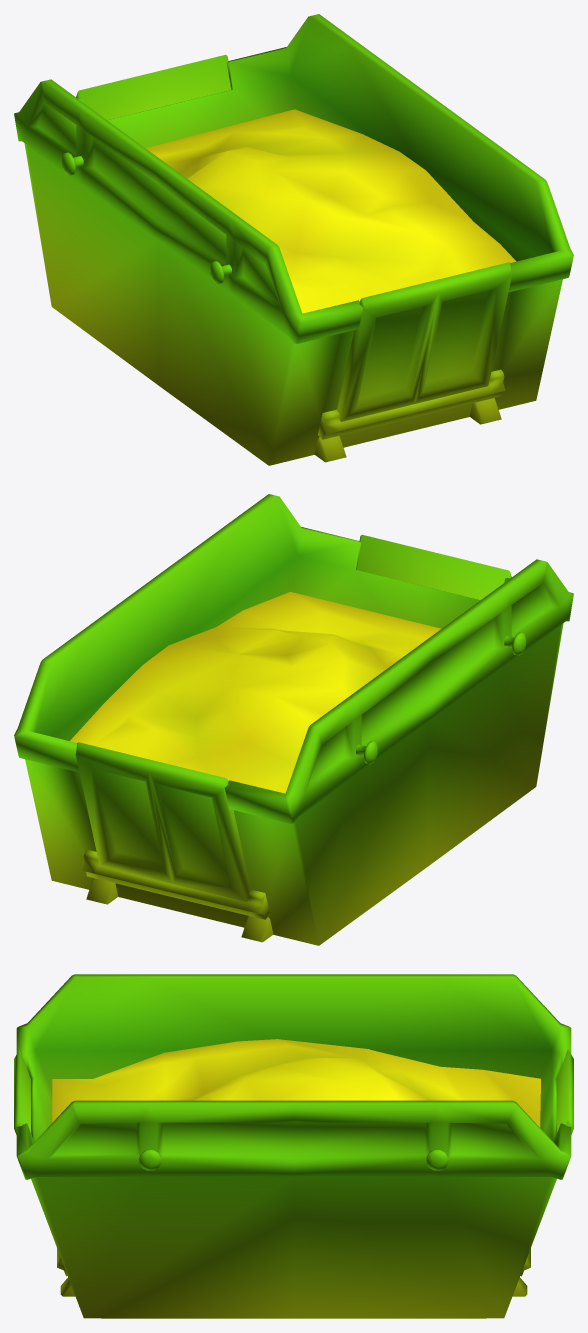
The model's file is SkipBlue.glb.
The picture shows the model from 3 angles, top to bottom: view 1: azimuth 30°, elevation 25°; view 2: azimuth 150°, elevation 25°; view 3: azimuth 270°, elevation 25°; orthographic projection. The views are drawn at different scales.
Visible parts, largest first — view 1: SkipBlue; view 2: SkipBlue; view 3: SkipBlue.
Boxes of the visible parts, x1=… form: SkipBlue: x1=14, y1=14, x2=573, y2=465; SkipBlue: x1=14, y1=494, x2=573, y2=945; SkipBlue: x1=14, y1=974, x2=573, y2=1318.
Bounding box in the file's own units: 3.34 × 2.3 × 5.4.
2 materials, 2 textured.
